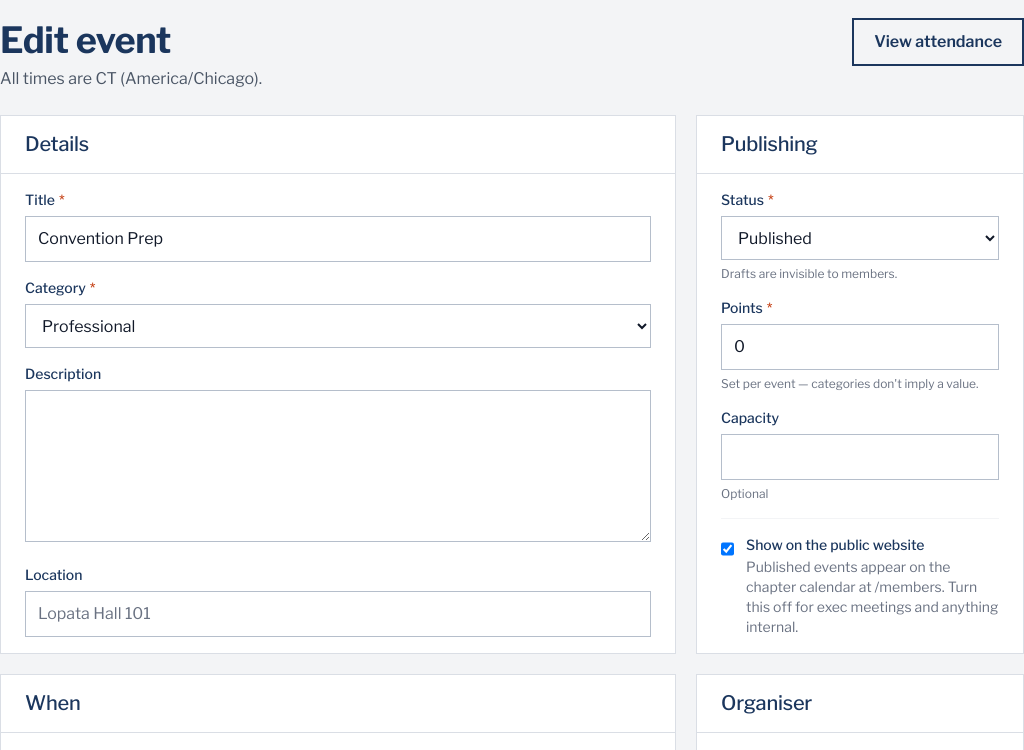
it: AdminEventForm — changing points › after saving without the roster, says everyone moved and refreshes members' points
The image size is (1024, 750).
Expected: the number field labelled "Points*" holds "0", 721,324 -> 999,370
Select "Professional" in the dropdown labelled "Category*" at (338, 326), box 25,304 -> 651,348
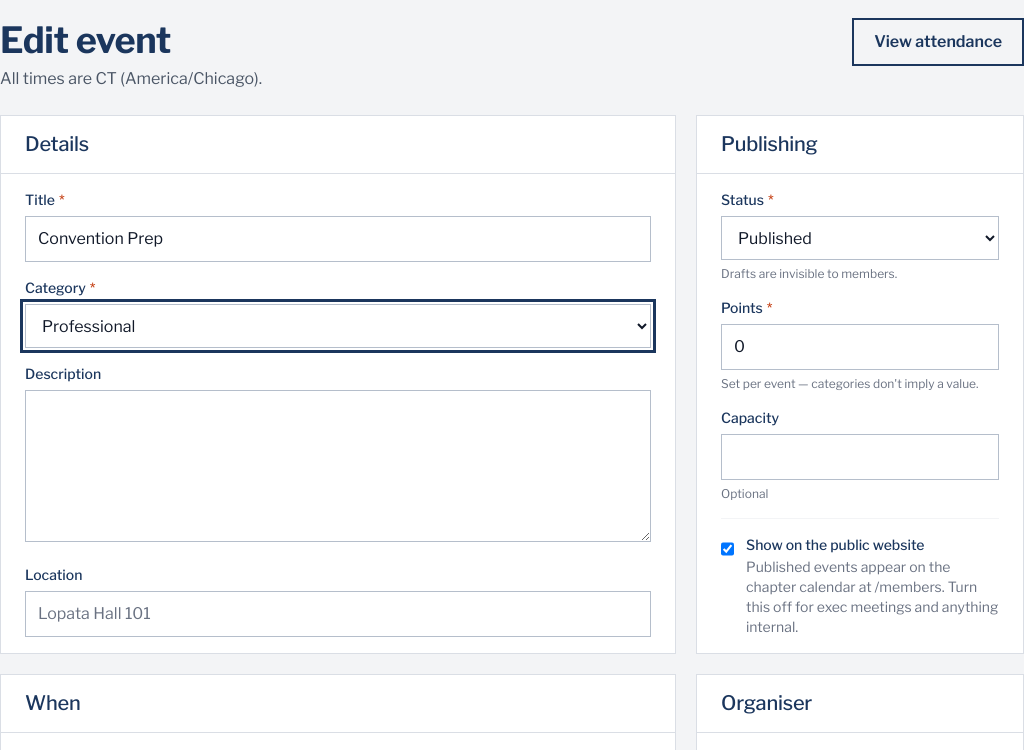
Replace the text in the number field labelled "Points*" with "50" at (860, 347), box 721,324 -> 999,370
(page scrolled)
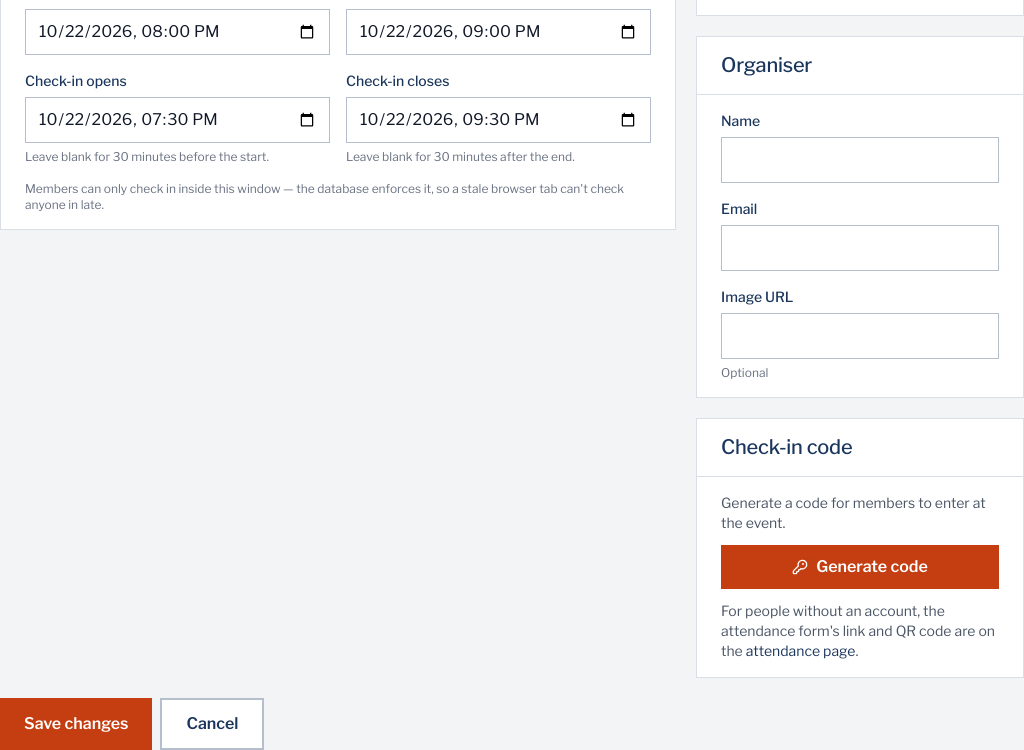
Click the button "Save changes".
click(76, 724)  # box 0,698 -> 152,749
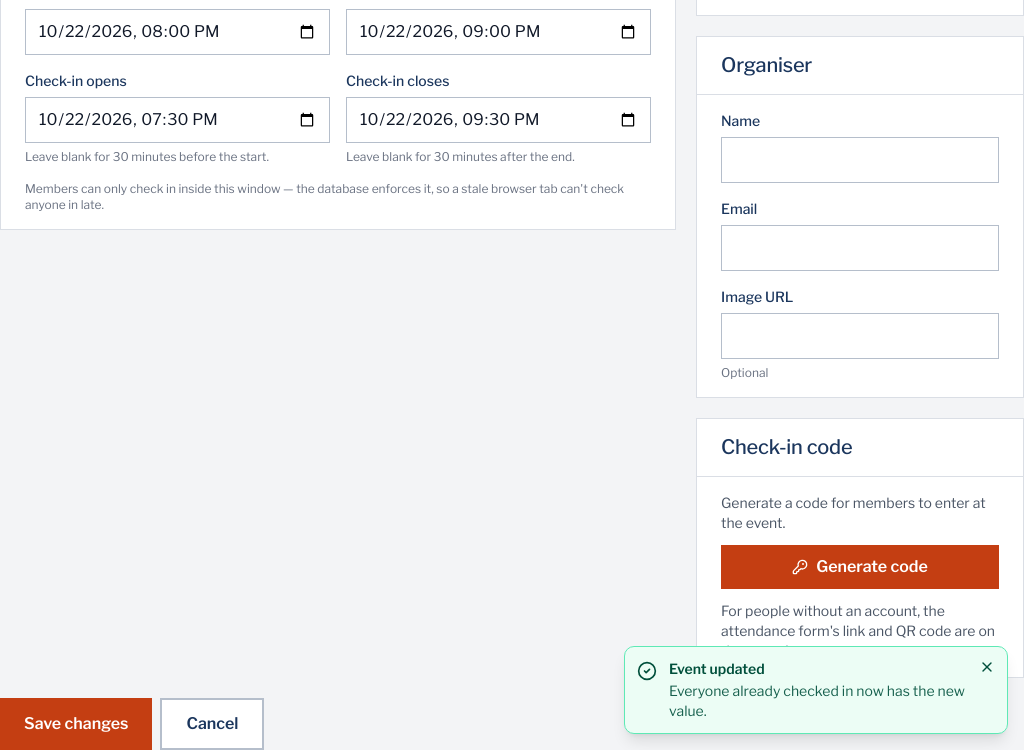
Now the text "Everyone already checked in now has the new value." is shown, box 669,682 -> 965,719
